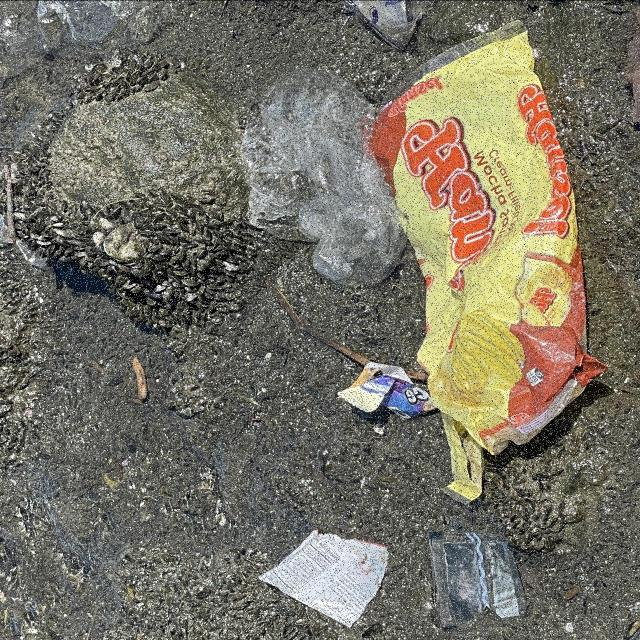plastic_waste: (338, 18, 614, 457), (258, 529, 391, 629), (428, 531, 530, 628)
